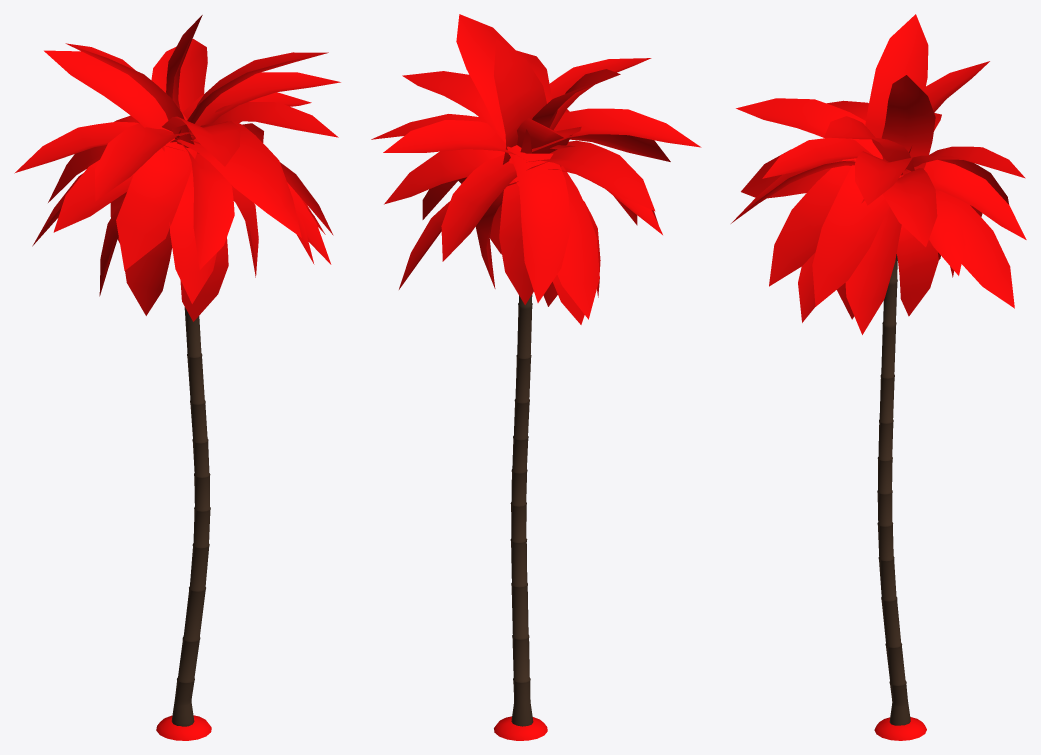
The model's file is Red tree 1.fbx.
3 renders of one model, left to right at view 1: azimuth 30°, elevation 25°; view 2: azimuth 150°, elevation 25°; view 3: azimuth 270°, elevation 25°, orthographic. The views are drawn at different scales.
Visible parts, largest first — view 1: coconut tree.002; view 2: coconut tree.002; view 3: coconut tree.002.
Boxes of the visible parts, x1,y1,x2,y2 form: coconut tree.002: (14,15,340,740); coconut tree.002: (371,14,701,740); coconut tree.002: (731,14,1026,740).
Size of the model in its own units: 352 by 805 by 326.
